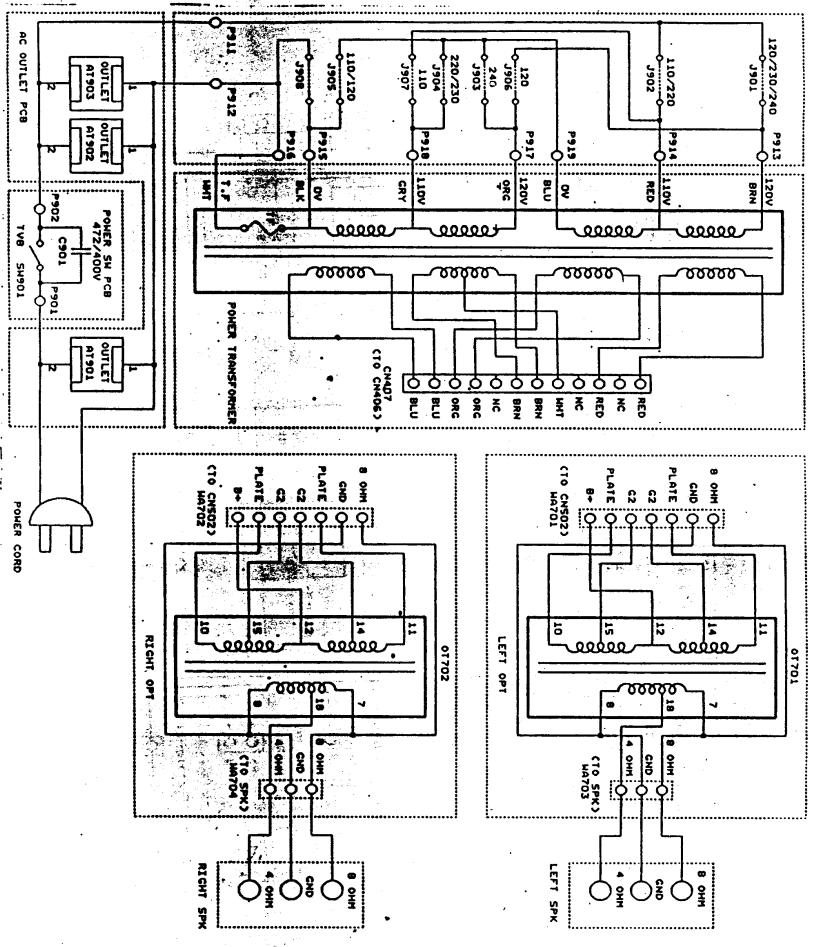compo_name: (540, 462, 575, 539), (574, 750, 609, 816), (368, 344, 395, 423), (191, 857, 214, 938), (338, 45, 362, 105), (202, 458, 219, 539), (84, 216, 104, 284), (660, 50, 681, 111), (545, 860, 564, 927), (443, 49, 465, 104), (276, 121, 303, 164), (310, 125, 334, 172), (598, 460, 621, 509), (94, 117, 115, 169), (138, 628, 160, 676), (95, 56, 115, 108), (222, 83, 245, 128), (310, 459, 332, 506), (267, 734, 289, 780), (433, 639, 453, 688), (77, 121, 98, 167), (95, 337, 114, 387), (78, 339, 98, 385), (784, 642, 804, 688), (4, 539, 27, 578), (662, 461, 681, 507), (49, 232, 71, 271), (222, 757, 241, 802), (493, 630, 515, 668), (79, 60, 97, 106), (413, 125, 435, 162), (656, 171, 677, 209), (289, 56, 309, 95), (465, 58, 485, 96), (518, 124, 540, 158), (639, 59, 658, 98), (638, 748, 658, 785), (393, 58, 413, 95), (290, 747, 310, 784), (218, 22, 241, 54), (742, 59, 761, 97), (234, 779, 254, 815), (426, 59, 445, 96), (321, 57, 339, 96), (636, 174, 657, 207), (499, 58, 517, 96), (618, 749, 637, 785), (514, 59, 534, 93), (12, 259, 29, 299), (192, 485, 207, 530), (258, 880, 279, 912), (99, 207, 115, 249), (44, 283, 63, 318), (251, 464, 268, 503), (662, 127, 682, 160), (412, 60, 430, 96), (563, 125, 582, 159), (445, 392, 465, 424), (483, 60, 501, 95), (515, 173, 533, 208), (767, 127, 784, 163), (45, 194, 64, 226), (310, 747, 329, 779), (341, 883, 361, 913), (466, 393, 486, 423), (760, 176, 778, 209), (196, 174, 215, 205), (660, 748, 679, 779), (216, 179, 237, 207), (650, 874, 670, 903), (426, 392, 444, 424), (590, 392, 608, 424), (301, 872, 320, 902), (11, 219, 28, 252), (684, 477, 702, 508), (550, 392, 568, 423), (632, 392, 650, 423), (547, 617, 568, 643), (138, 678, 159, 704), (763, 31, 781, 61), (538, 173, 554, 206), (404, 392, 421, 423), (695, 878, 710, 913), (507, 393, 524, 423), (611, 881, 628, 911), (98, 269, 115, 299), (393, 176, 409, 207), (499, 173, 515, 204), (493, 669, 510, 698), (487, 392, 505, 419), (744, 178, 760, 208), (530, 393, 546, 423), (558, 175, 574, 204), (764, 92, 781, 119), (641, 483, 659, 508), (705, 478, 721, 506), (416, 174, 429, 207), (355, 477, 370, 505), (292, 176, 307, 204), (236, 752, 251, 779), (334, 477, 349, 504), (100, 248, 116, 273), (403, 619, 421, 641), (299, 617, 317, 639), (703, 620, 721, 642), (310, 182, 327, 205), (581, 484, 598, 507), (272, 483, 289, 506), (755, 620, 773, 641), (765, 63, 782, 85), (293, 481, 308, 505), (232, 481, 247, 505), (650, 617, 667, 637), (624, 484, 638, 508), (250, 617, 264, 641), (355, 616, 370, 638), (600, 617, 615, 638), (196, 618, 212, 637)
